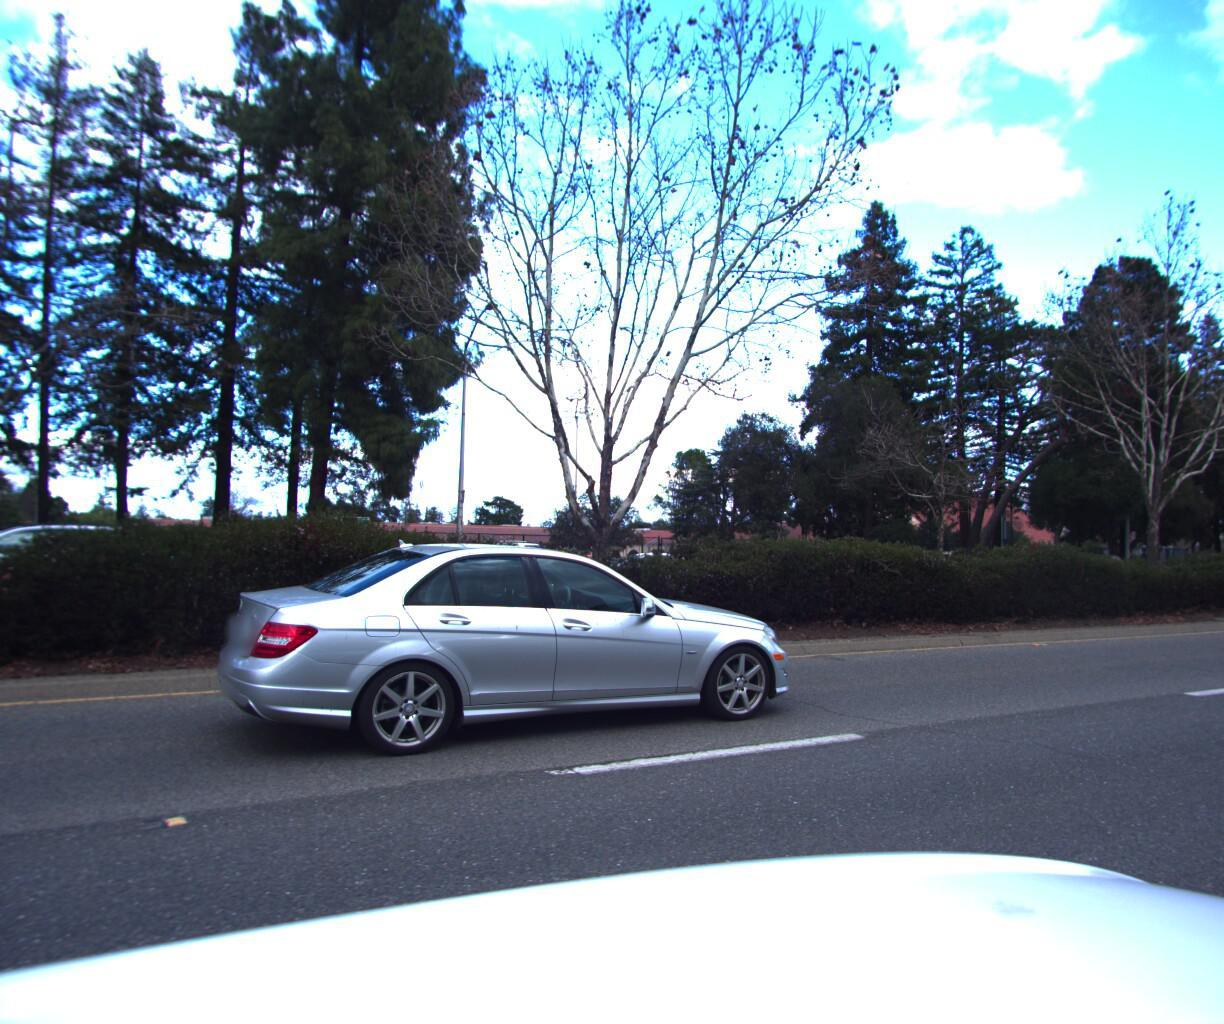car: (216, 528, 801, 780), (0, 516, 148, 613), (409, 533, 557, 590), (565, 543, 697, 594)
